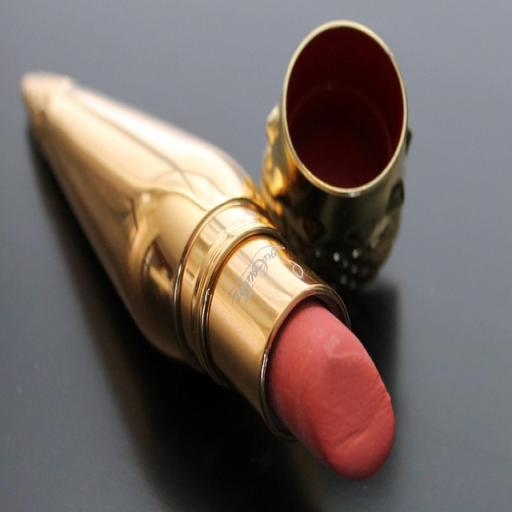lipstick: (23, 75, 394, 477)
